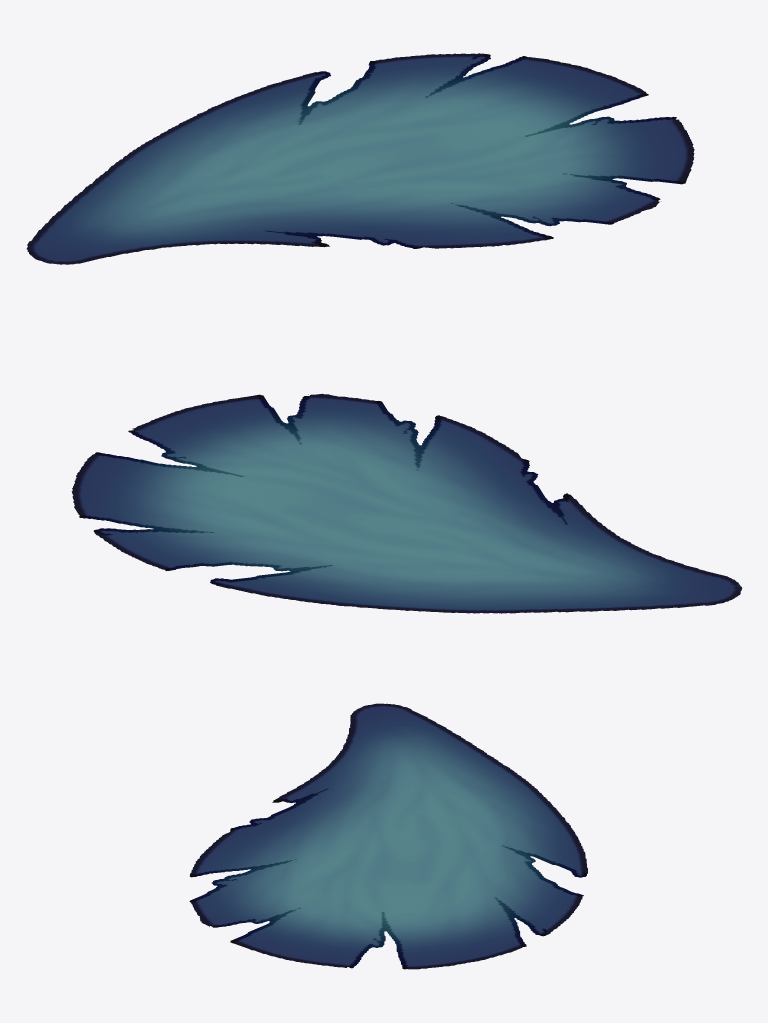
File: FlowerPetalSadTorn.fbx
3 views of the same model, one above another, from view 1: azimuth 30°, elevation 25°; view 2: azimuth 150°, elevation 25°; view 3: azimuth 270°, elevation 25° (orthographic). The views are drawn at different scales.
Visible parts, largest first — view 1: FlowerPetalSadTorn; view 2: FlowerPetalSadTorn; view 3: FlowerPetalSadTorn.
Boxes of the visible parts, bbox=[...] form: FlowerPetalSadTorn: bbox=[26, 53, 694, 264]; FlowerPetalSadTorn: bbox=[71, 393, 742, 613]; FlowerPetalSadTorn: bbox=[189, 703, 587, 969].
Size of the model in its own units: 81.98 by 1.34e-05 by 81.98.
